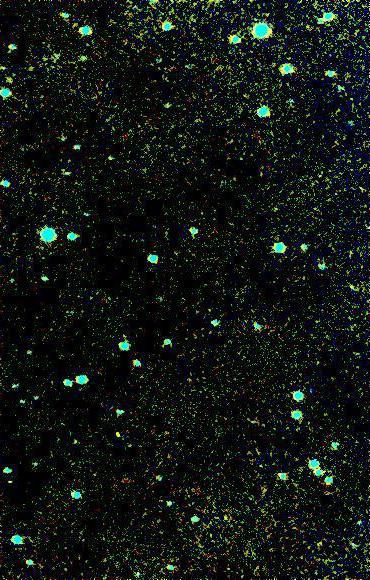star: (106, 419, 136, 449)
